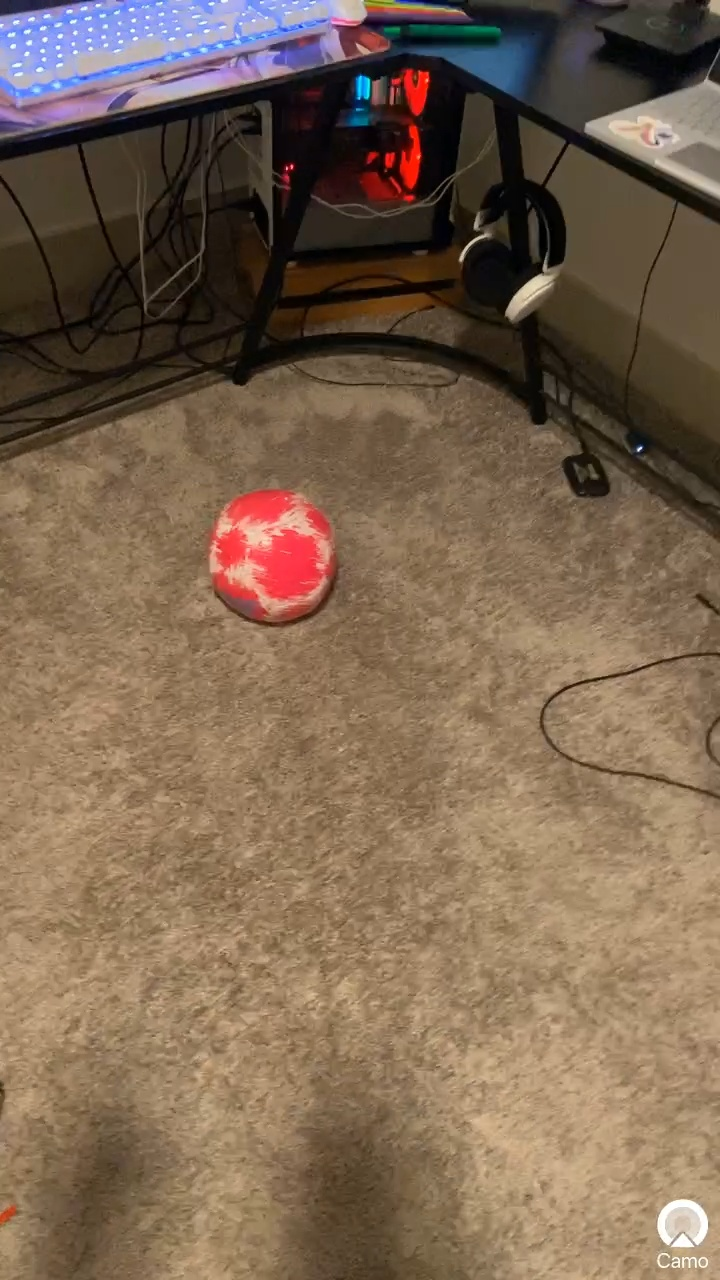Soccer_Ball: (192, 474, 363, 626)
